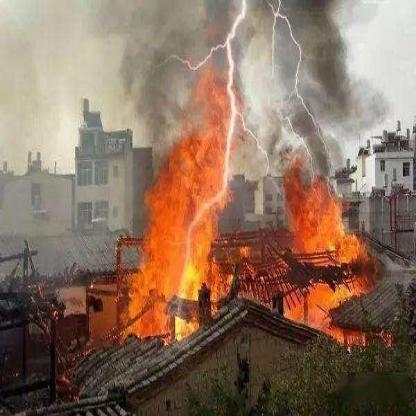fire: (98, 36, 376, 353)
